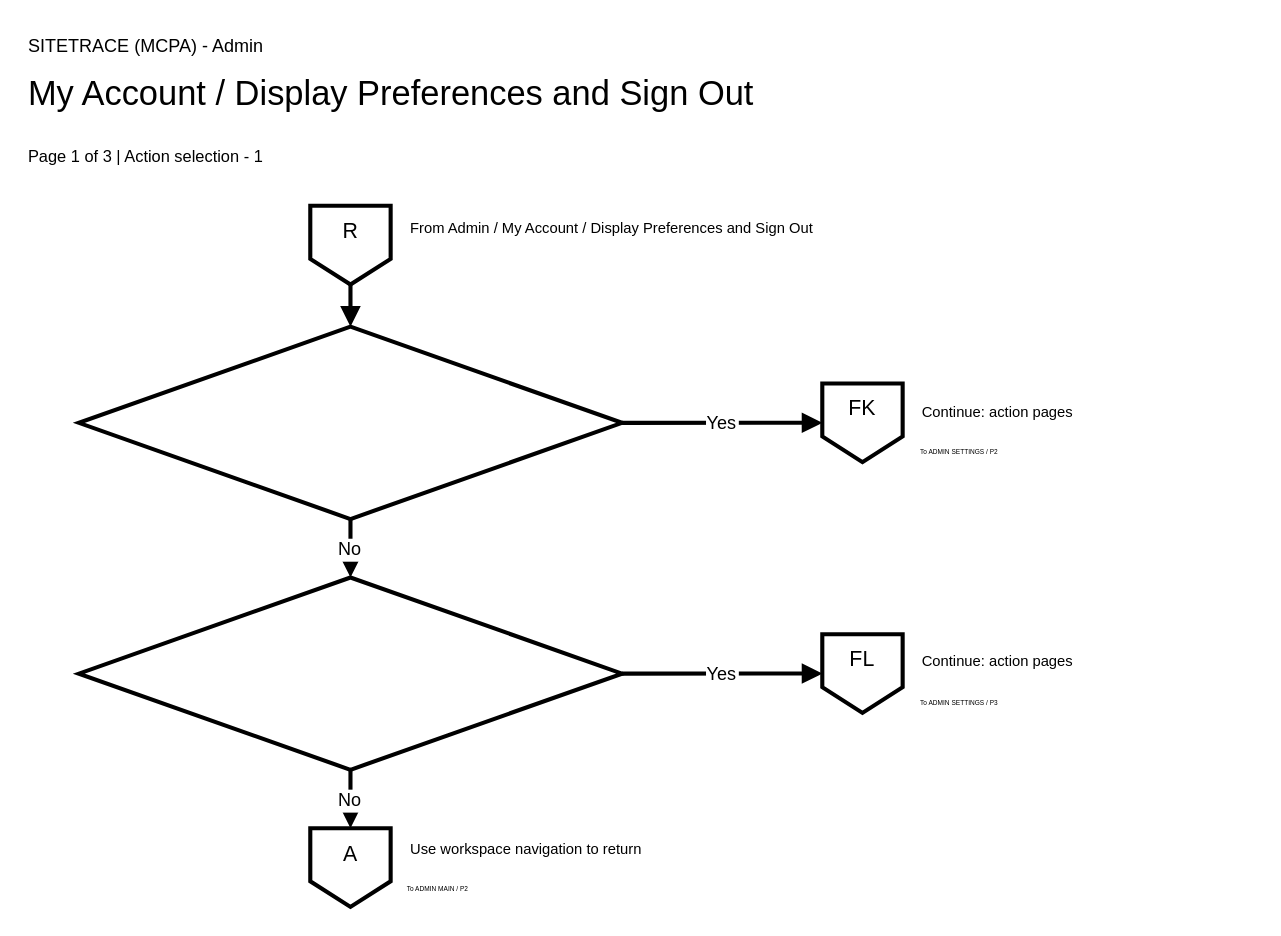
This 1281x936 diagram has some shape labels left out. The shapes that lost their labels are listed below. From the top down, each one's box as (x1, y1, x2, y2) in pixels, then its label:
(76, 324, 623, 520): View authorized account identity?
(76, 575, 623, 771): Change light / night mode?
